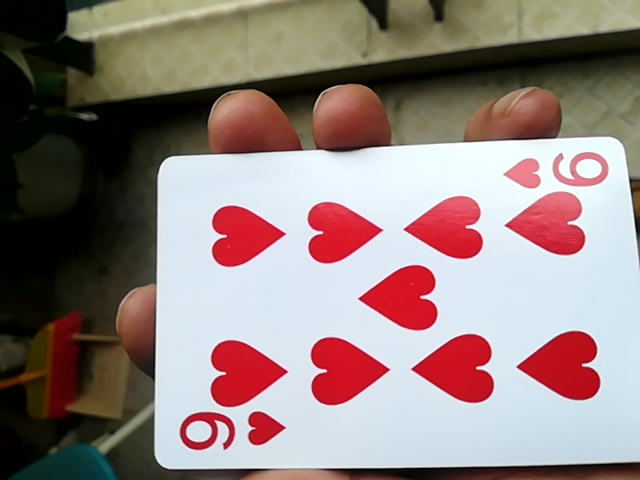hx 9: (143, 143, 634, 480)
